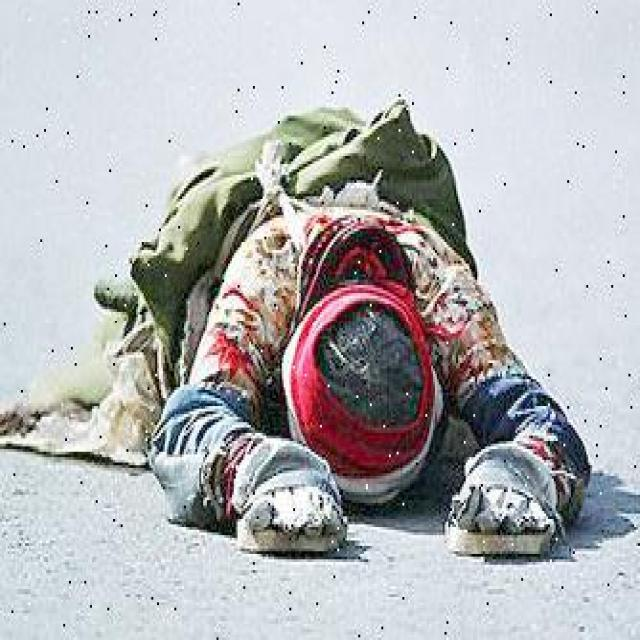fall: (75, 102, 588, 546)
